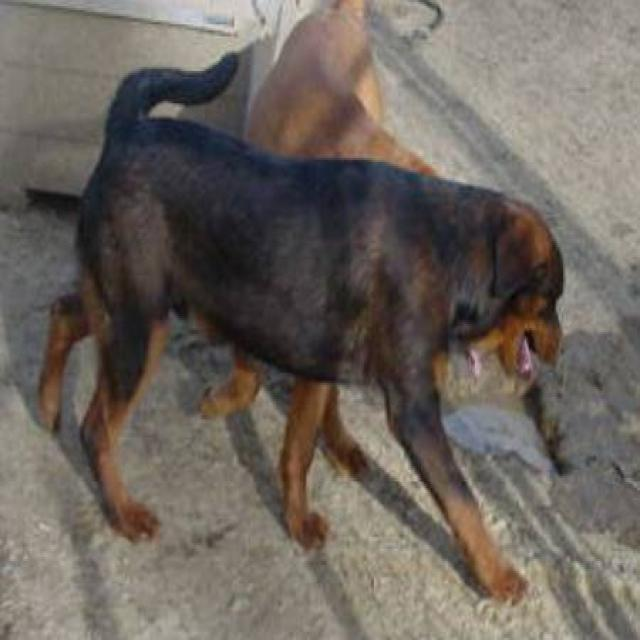Dog: (448, 166, 585, 419)
